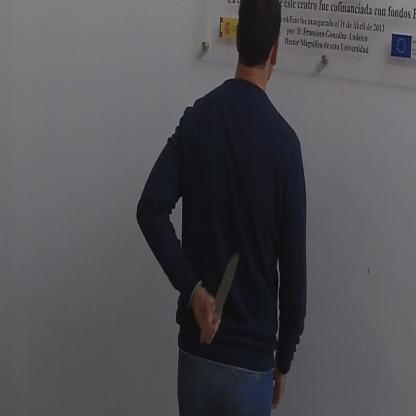knife: (197, 245, 242, 347)
